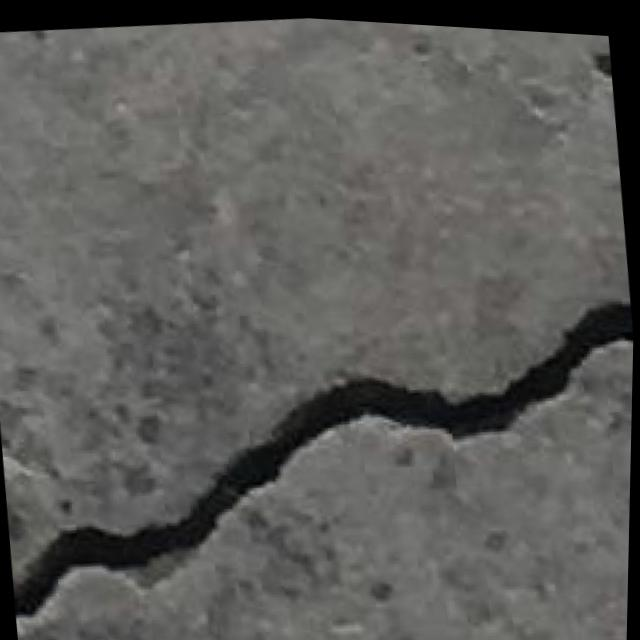Crack: (0, 251, 636, 640)
